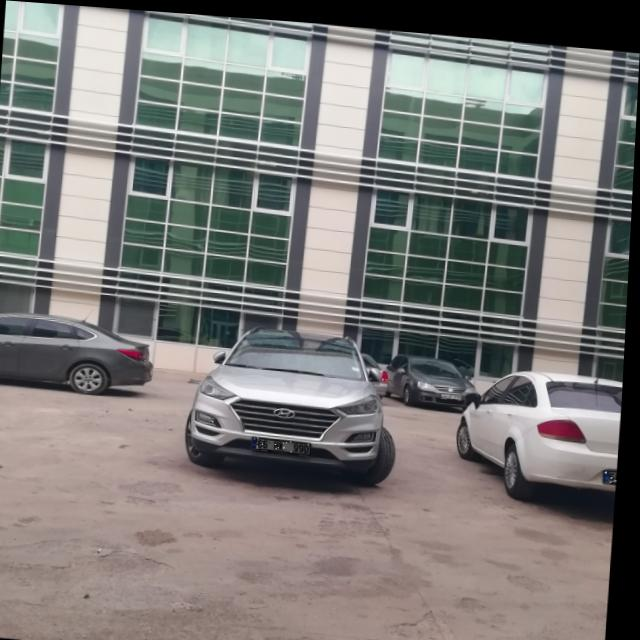license_plate: (256, 432, 315, 450), (606, 460, 621, 474)
